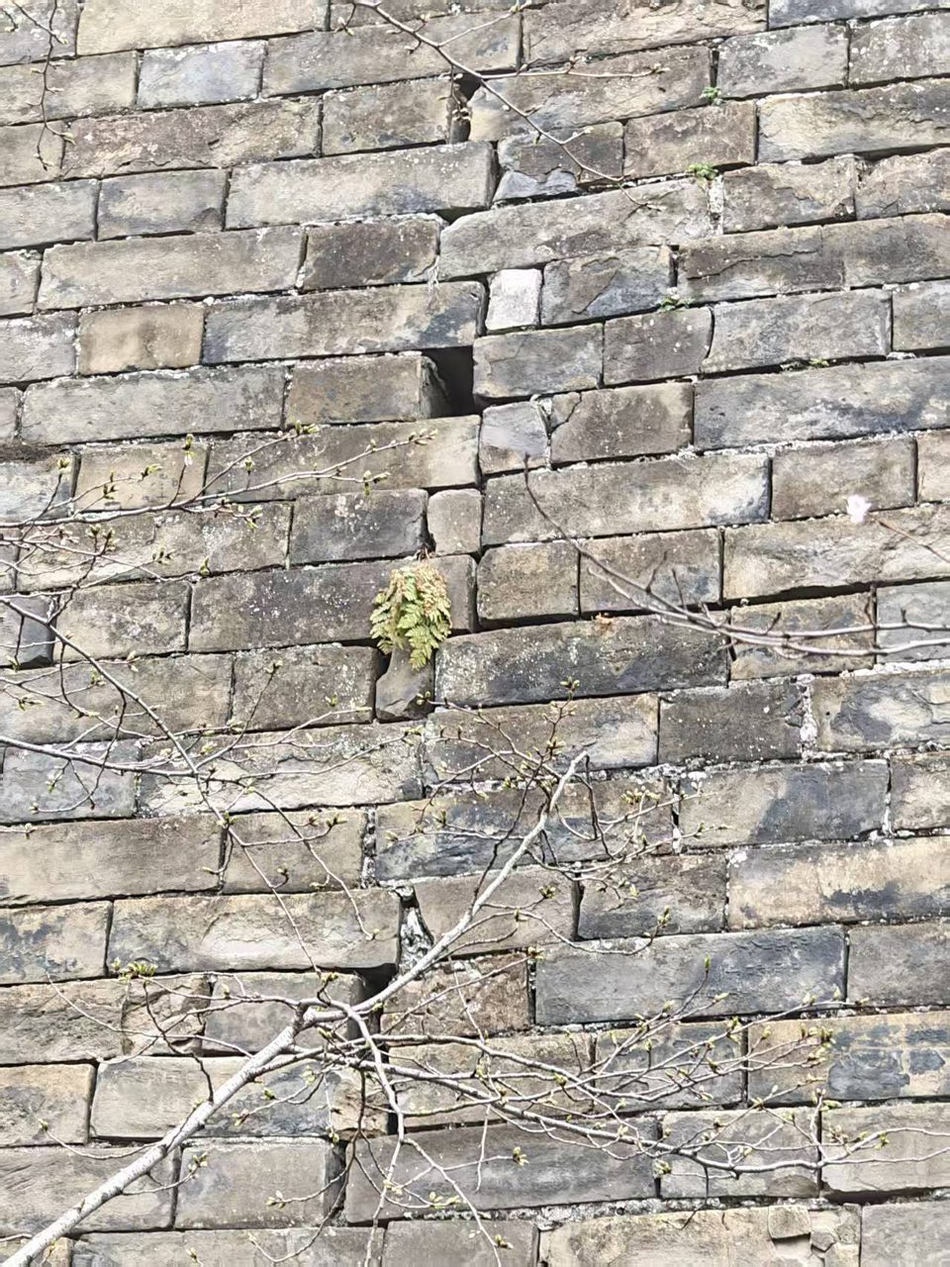crack: (391, 9, 533, 715)
